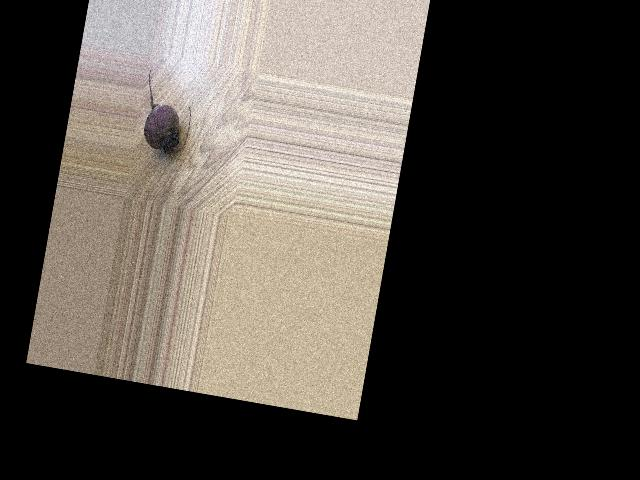beet: (136, 69, 197, 156)
